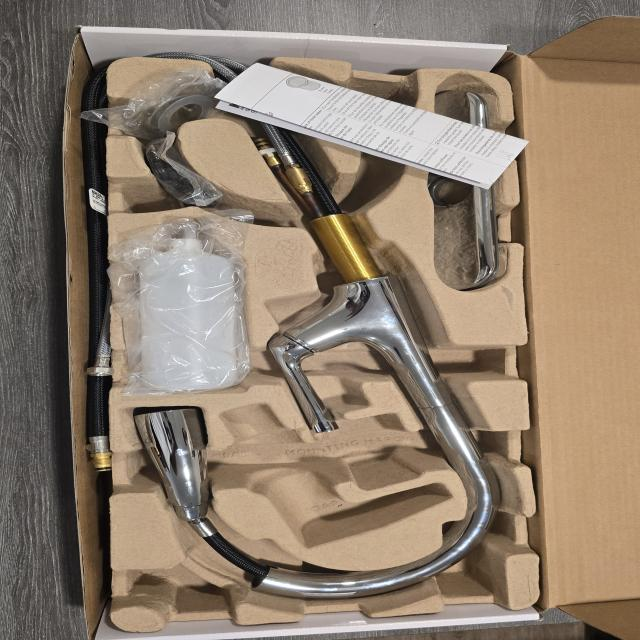1o: (129, 62, 500, 599)
2m: (215, 404, 453, 548)
3: (138, 219, 241, 392)
4o: (428, 91, 499, 290)
5m: (342, 91, 407, 138)
6: (77, 66, 230, 137)
7: (143, 130, 226, 208)
8: (213, 62, 527, 191)
